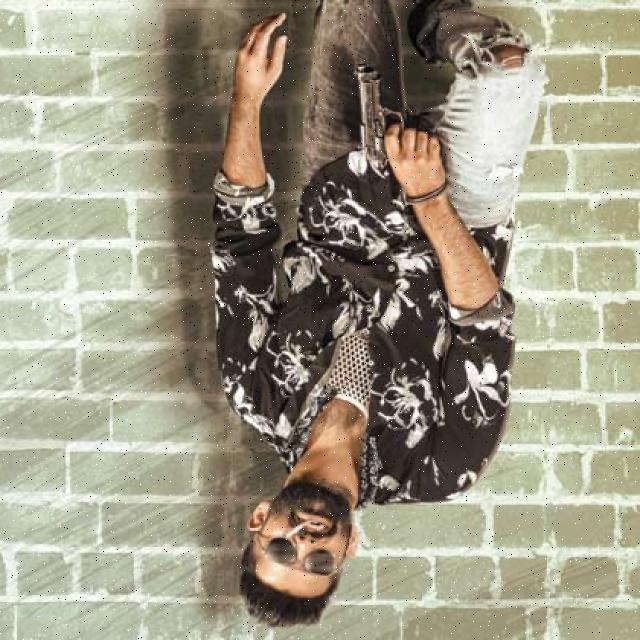gun: (350, 56, 413, 166)
